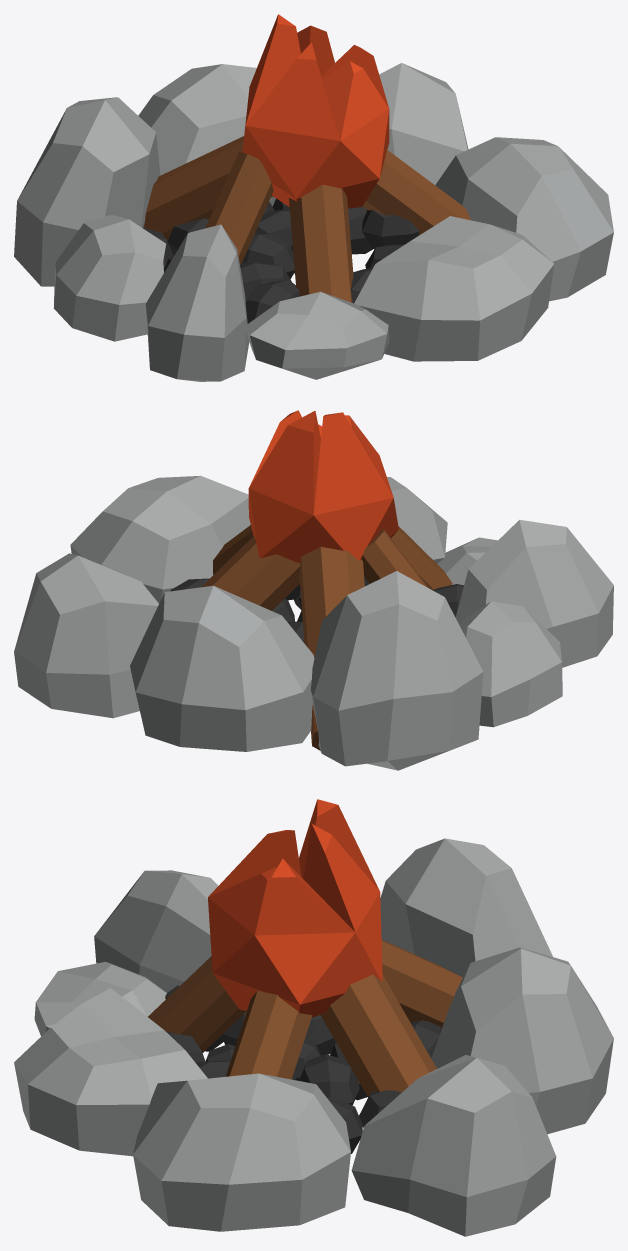
The model's file is fire pit w fire.fbx.
3 views of the same model, one above another, from view 1: azimuth 30°, elevation 25°; view 2: azimuth 150°, elevation 25°; view 3: azimuth 270°, elevation 25° (orthographic). The views are drawn at different scales.
Parts seen in each view (by area): view 1: fire pit with fire; view 2: fire pit with fire; view 3: fire pit with fire.
Part boxes in pixels (bbox=[...]): fire pit with fire: bbox=[14, 14, 613, 381]; fire pit with fire: bbox=[14, 410, 613, 770]; fire pit with fire: bbox=[14, 799, 613, 1236].
Size of the model in its own units: 476 by 256 by 450.
